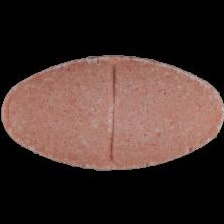64725-5400: (0, 0, 224, 224)
